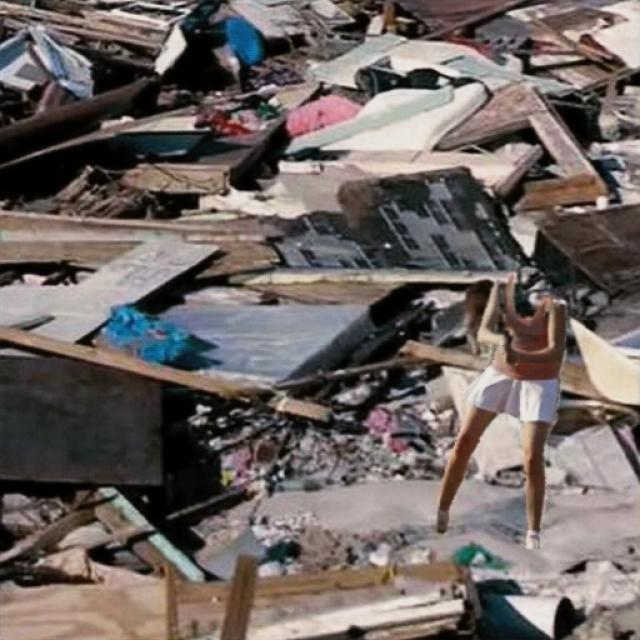Person in Rubble: (438, 274, 568, 548)
